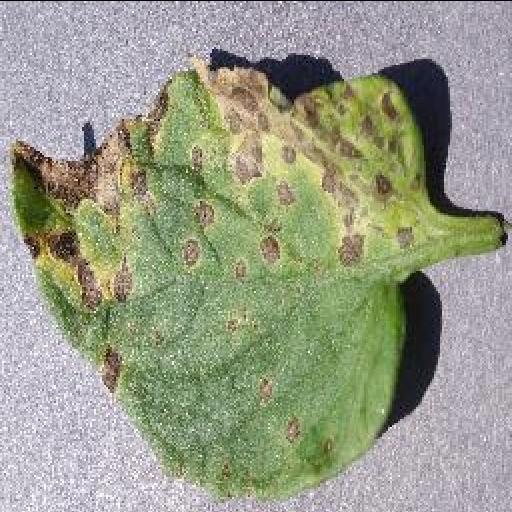disease_tomato: (9, 65, 431, 497)
